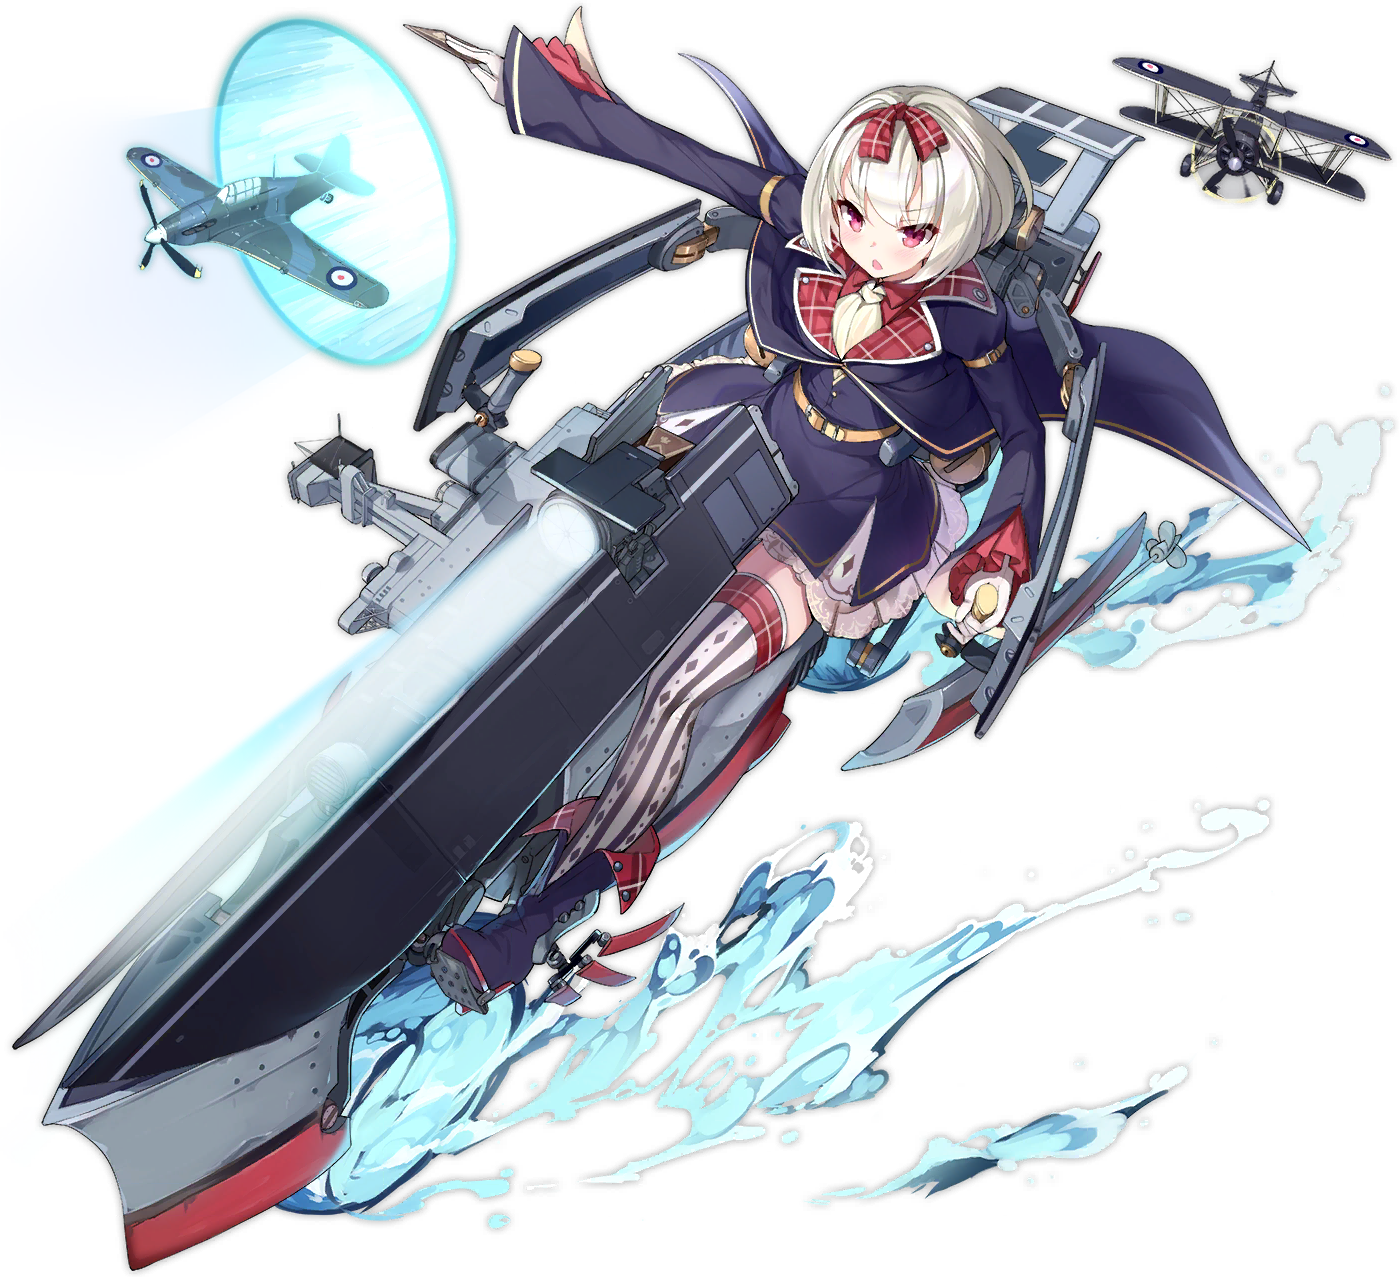person: (338, 79, 1098, 906)
